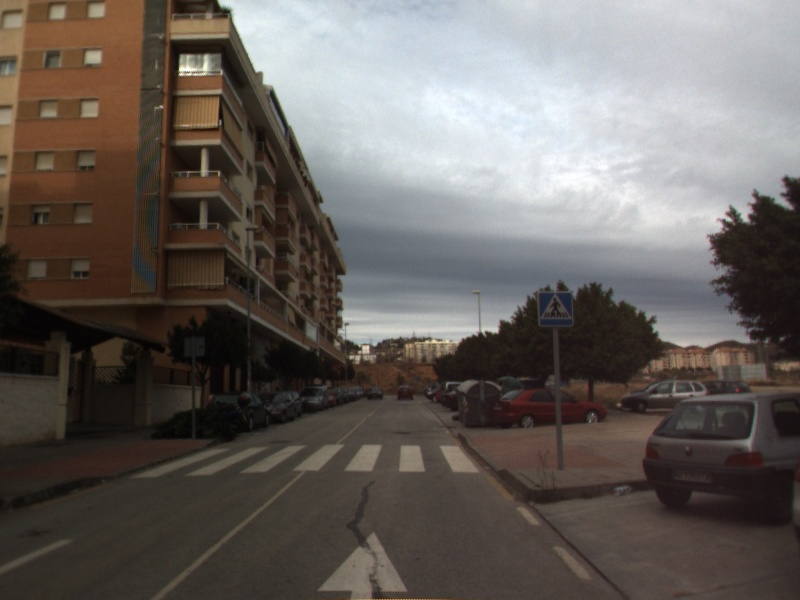STRAIGHT: (315, 529, 410, 600)
